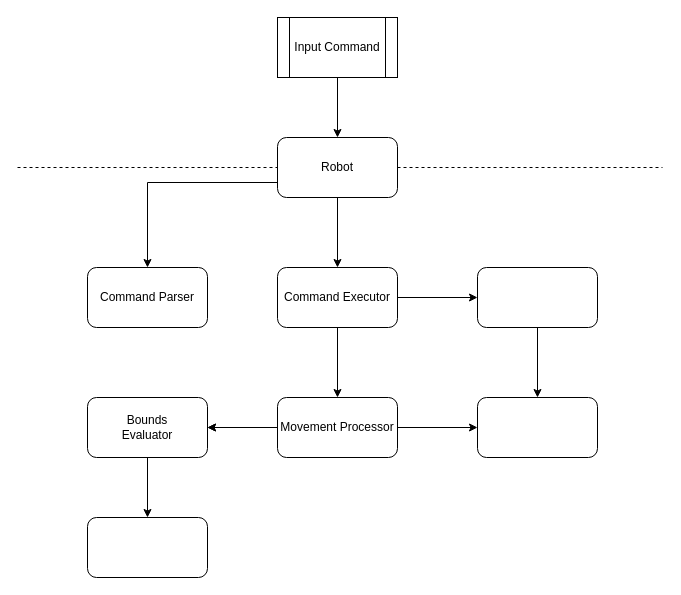
Some shapes in this 681 by 595 pixel diagram are drawn without their labels. The centre of each missing label's shape, as x and y in pixels:
"Position Tracker" goes at (x=537, y=427).
"Status Reporter" goes at (x=537, y=297).
"Table" goes at (x=147, y=547).
